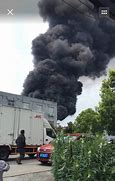smoke: (23, 1, 115, 97)
